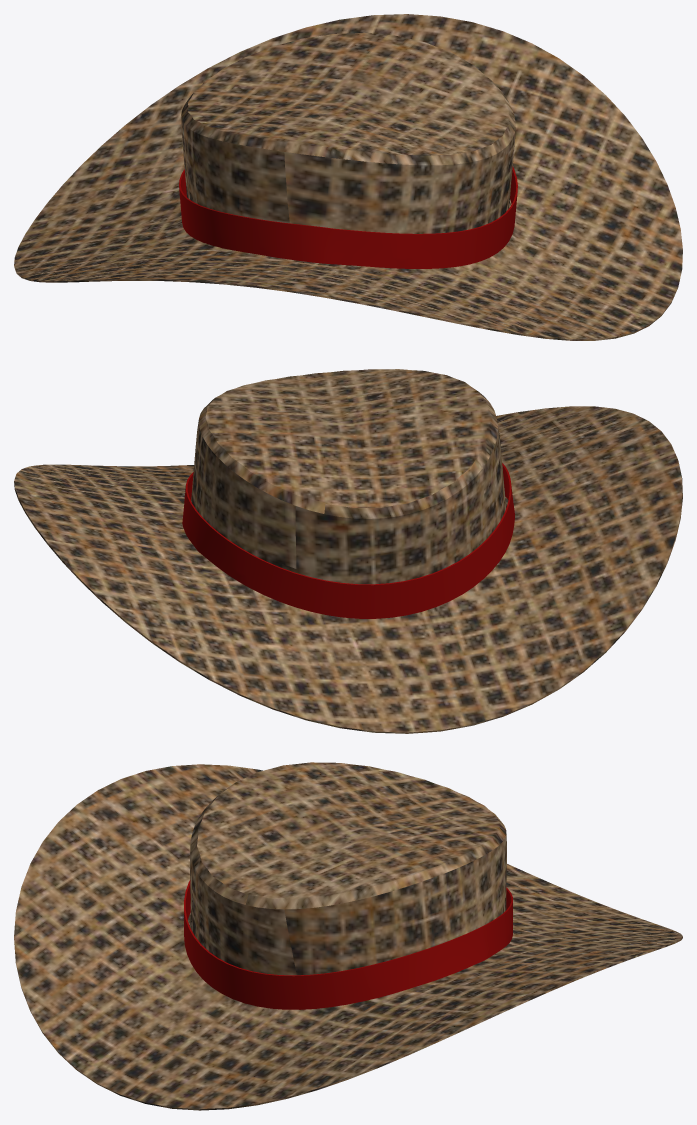
Rendered from CappelloDiPaglia.fbx.
3 renders of one model, top to bottom at view 1: azimuth 30°, elevation 25°; view 2: azimuth 150°, elevation 25°; view 3: azimuth 270°, elevation 25°, orthographic.
Parts seen in each view (by area): view 1: Cappello, Nastro; view 2: Cappello, Nastro; view 3: Cappello, Nastro.
Part boxes in pixels (box(x1,y1,x2,y2)): Cappello: box(14, 14, 682, 340); Nastro: box(179, 166, 517, 268); Cappello: box(14, 369, 682, 733); Nastro: box(182, 463, 514, 618); Cappello: box(14, 762, 682, 1110); Nastro: box(184, 880, 512, 1009).
Bounding box in the file's own units: 329 × 97.02 × 329.
